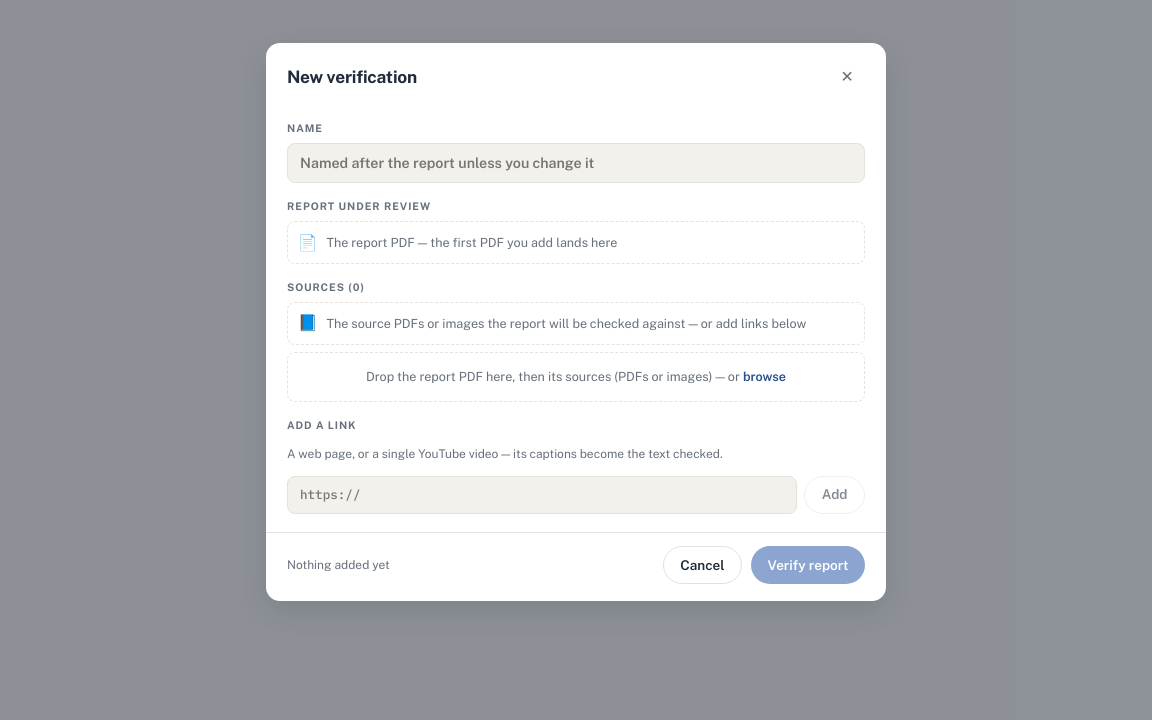
Test: UploadDialog › rejects a duplicate link, including one that differs only by its #fragment
The width and height of the screenshot is (1152, 720).
Type "https://example.org/page" into the field labelled "Add a link" at (542, 495), box [287,476,797,514]
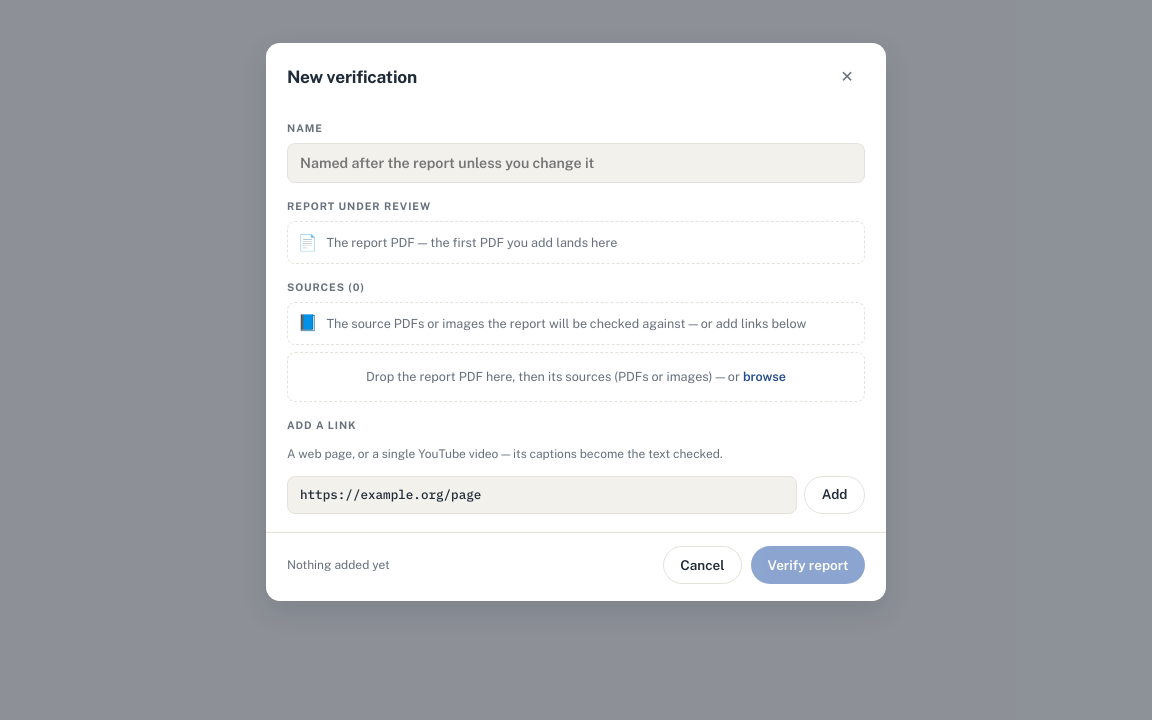
Click the button "Add" at (835, 495), box [804,476,865,514]
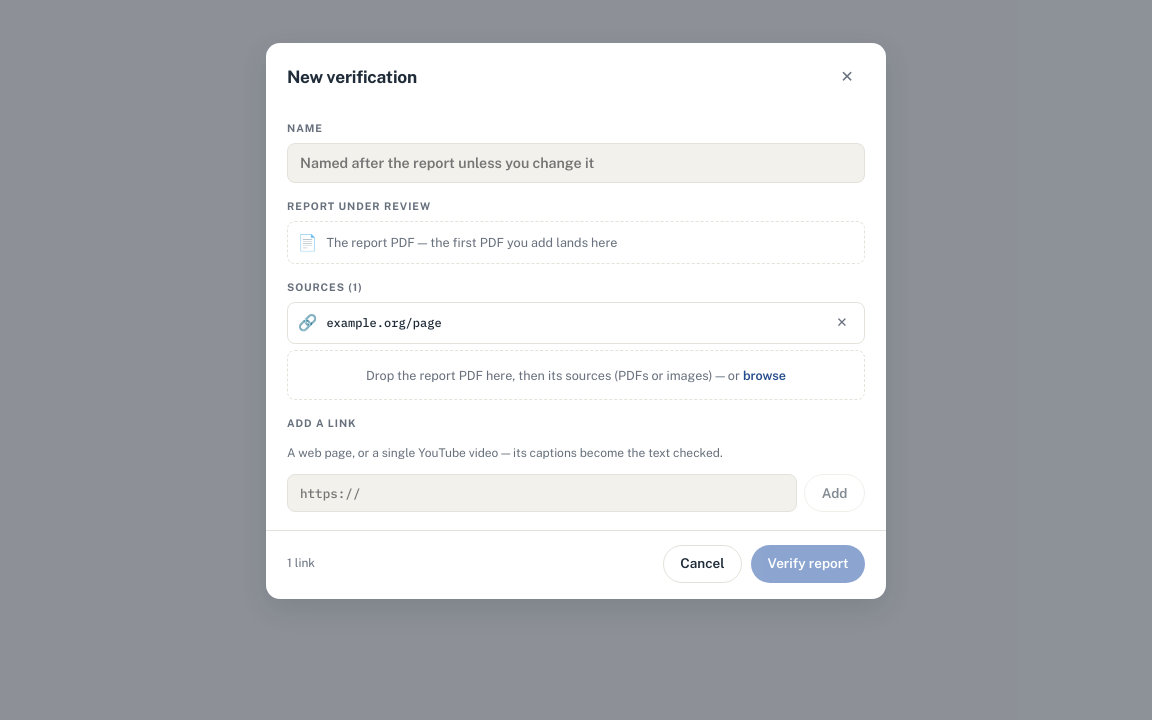
Type "https://example.org/page" into the field labelled "Add a link" at (542, 493), box [287,474,797,512]
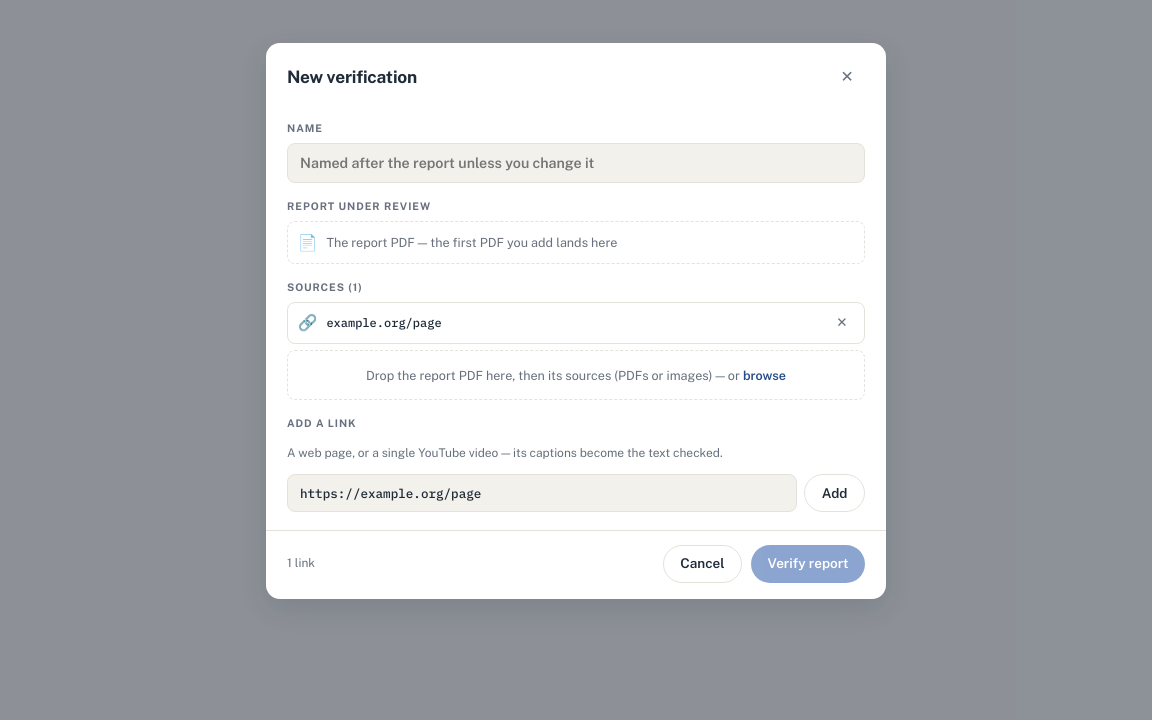
Click the button "Add" at (835, 493), box [804,474,865,512]
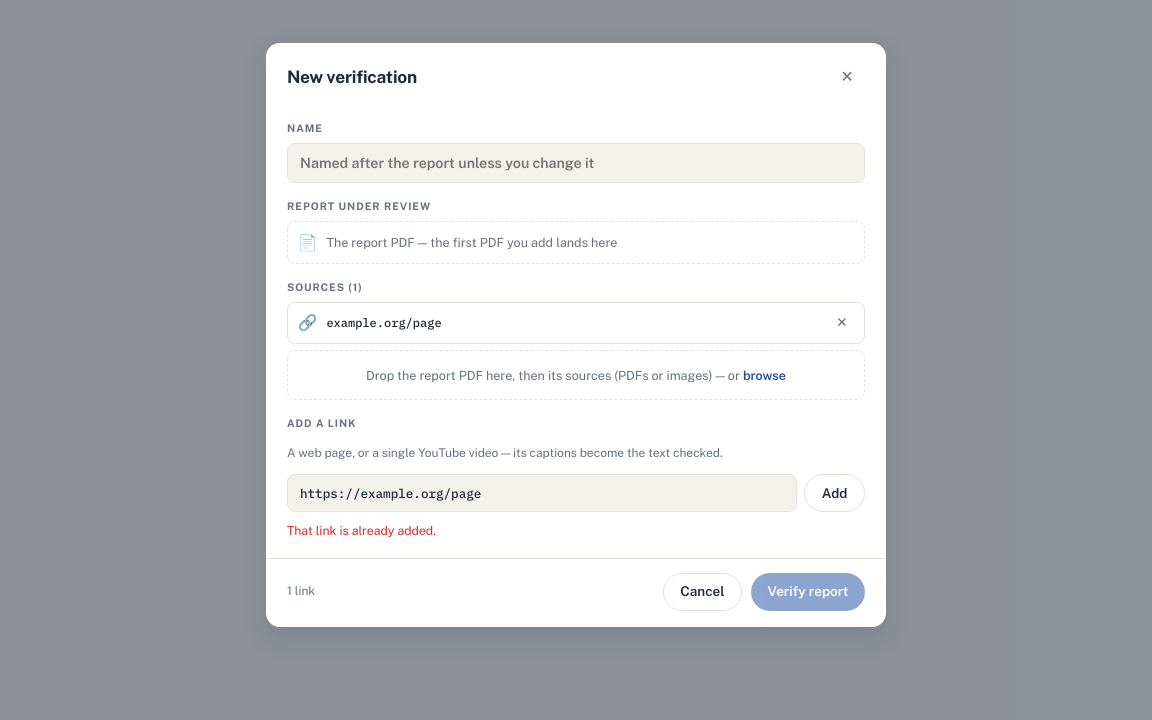
Now the text "That link is already added." is shown, box [287,523,436,538]
Replace the text in the field labelled "Add a link" with "https://example.org/page#results" at (542, 493), box [287,474,797,512]
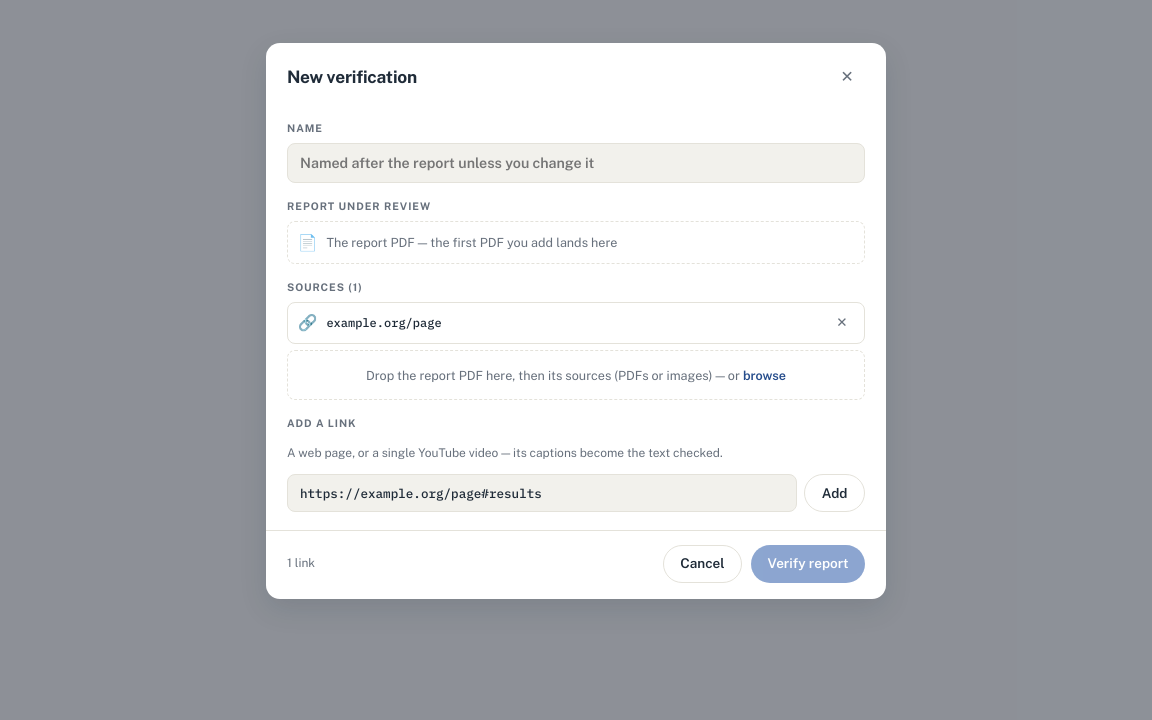
Now the text "That link is already added." is gone
Press Enter in the field labelled "Add a link", box [287,474,797,512]
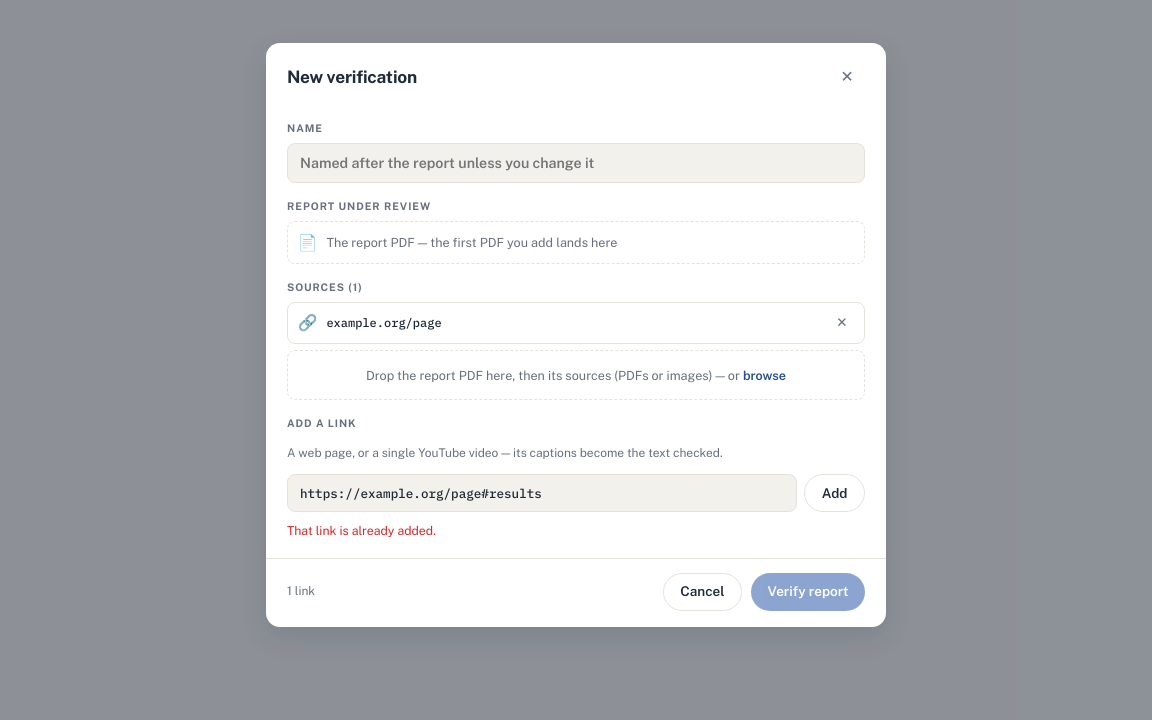
Now the text "example.org/page" is shown once, box [326,315,442,330]
Now the text "That link is already added." is shown, box [287,523,436,538]
